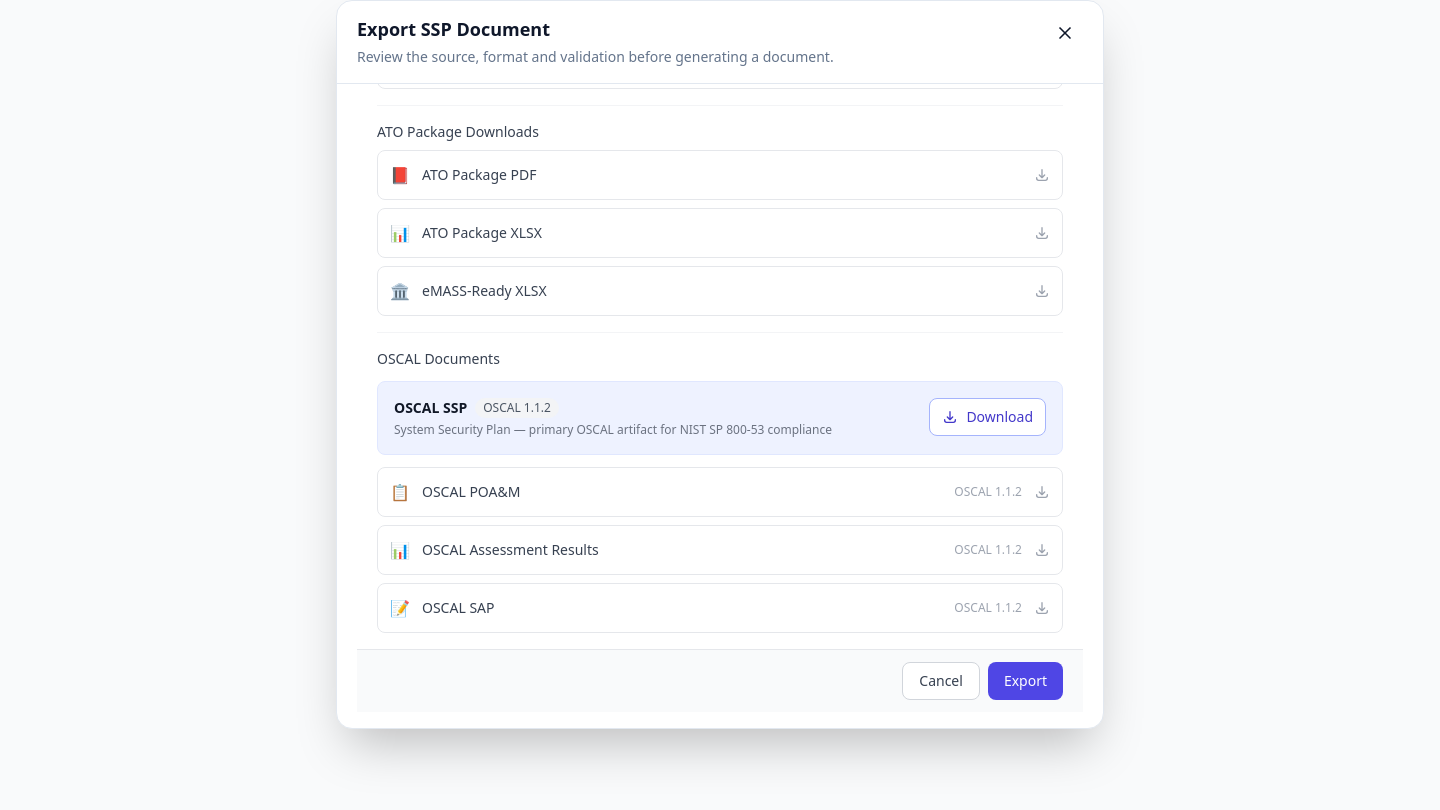
Test: cookie-session progress clients › reports SSP failure without fabricating a failure detail absent from the REST contract
(page scrolled)
Click the button "Export" at point(1025, 681), box [988,662,1063,700]
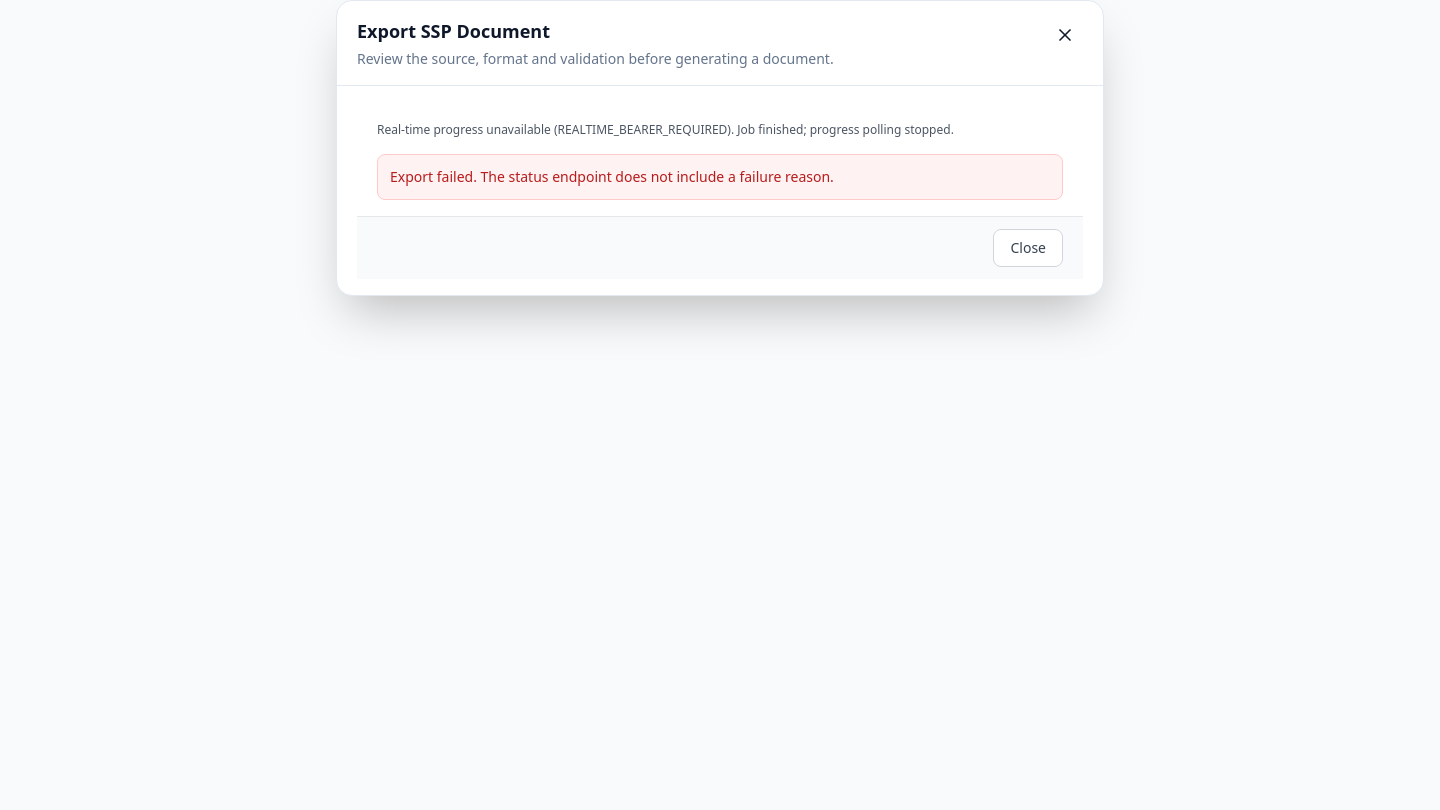
Result: the message "Export failed. The status endpoint does not include a failure reason." is shown at [377,154,1063,200]
